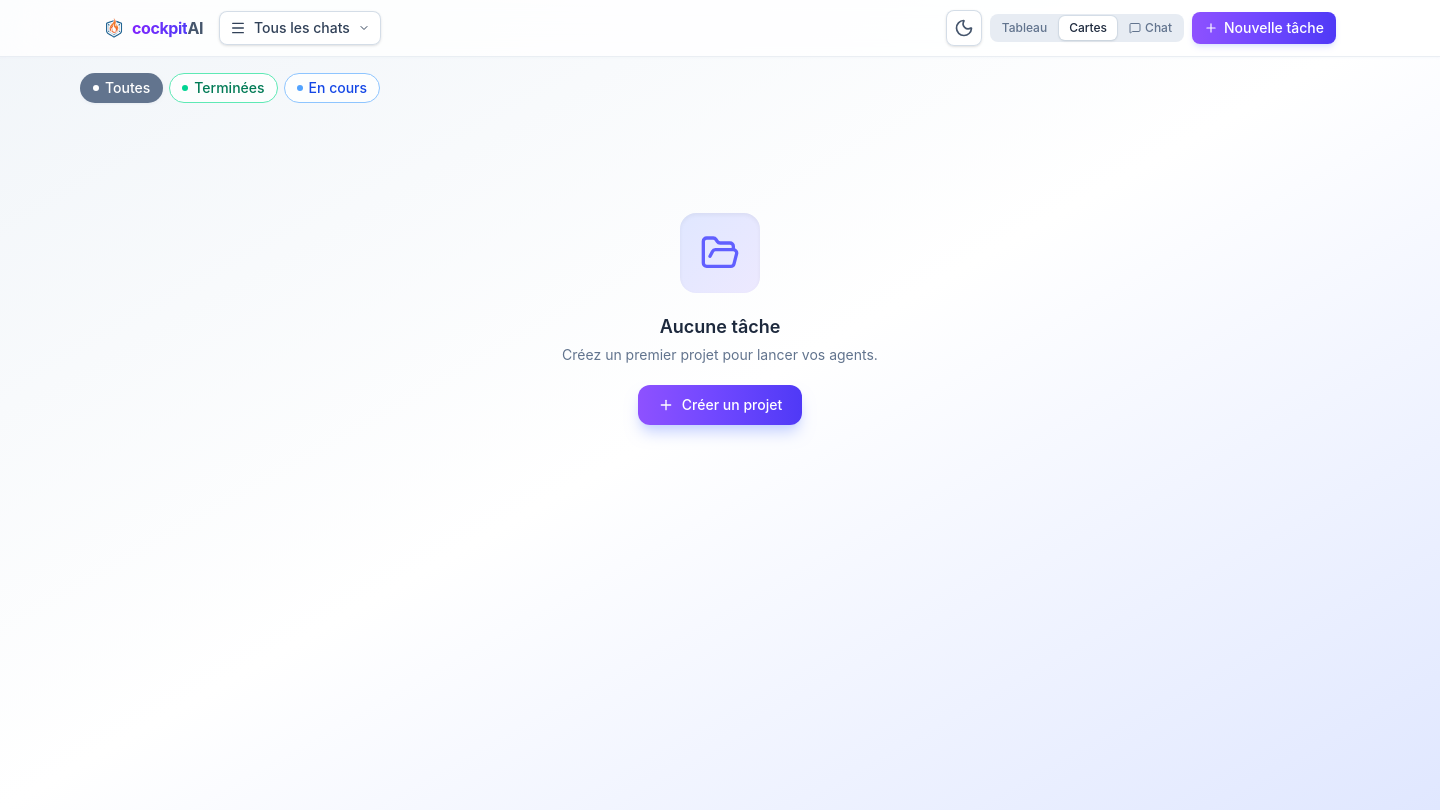
App › switches to chat view when Chat button is clicked
Click the button "Chat": (1151, 28) 1119,16 -> 1182,40
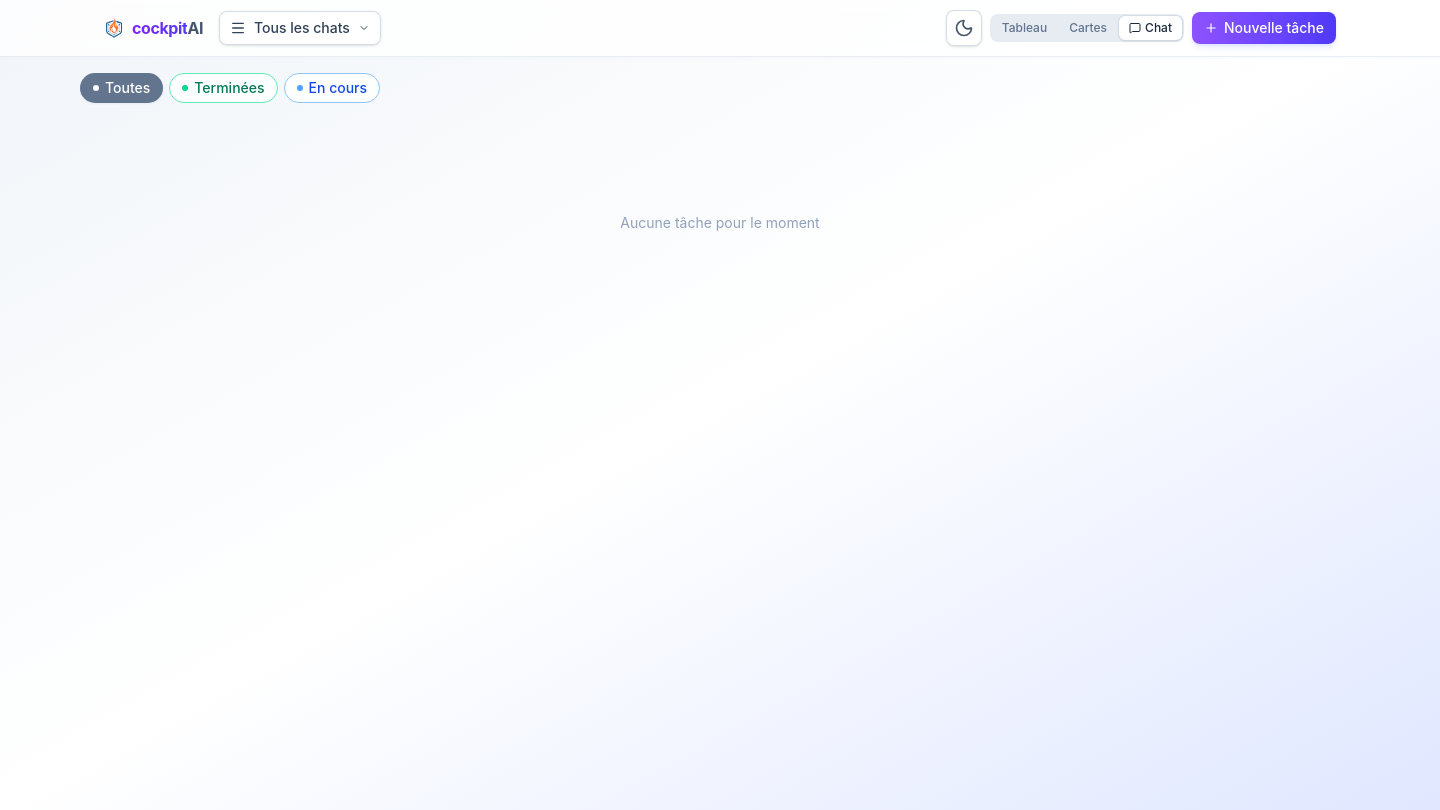
Now the element with test id "chat-view" is shown, box 620,214 -> 820,231
